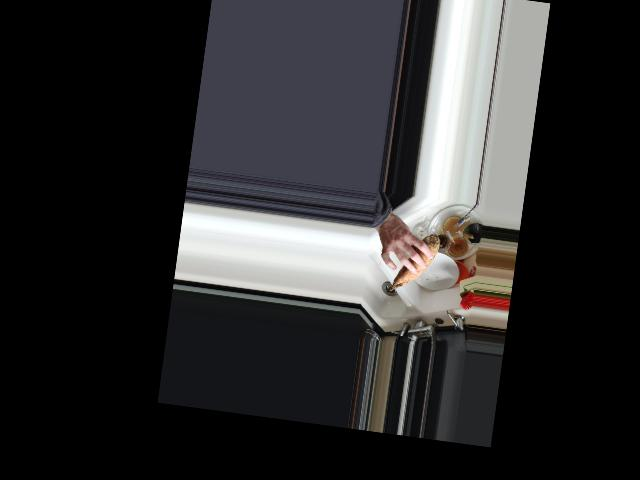sweet_potato: (389, 230, 441, 297)
